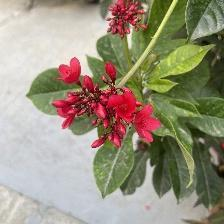jatropha: (110, 92, 160, 146)
